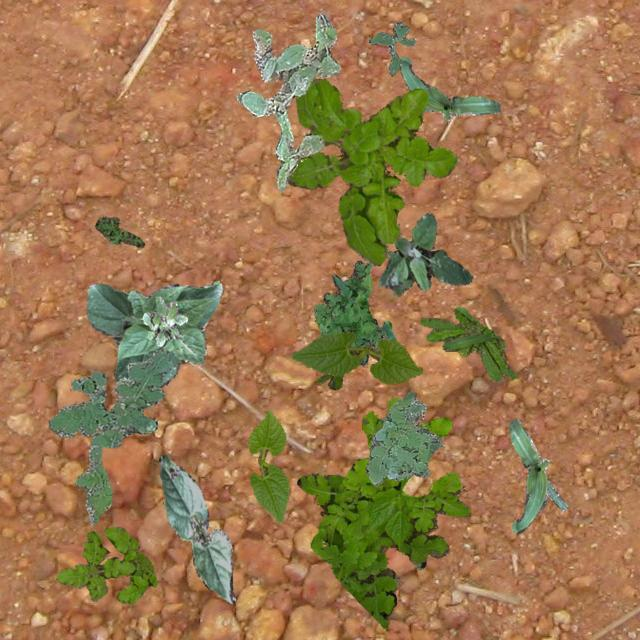crop: (86, 280, 222, 388), (158, 454, 235, 604), (290, 330, 422, 382), (508, 418, 566, 532), (398, 56, 500, 120), (248, 409, 288, 522)
weed: (296, 397, 469, 628), (286, 76, 457, 264), (48, 348, 170, 524), (236, 11, 340, 192), (312, 260, 396, 364), (56, 526, 156, 604), (378, 212, 472, 294), (364, 390, 440, 486), (420, 306, 516, 380), (368, 20, 414, 74), (142, 296, 186, 346), (94, 216, 144, 247), (316, 374, 342, 388)
